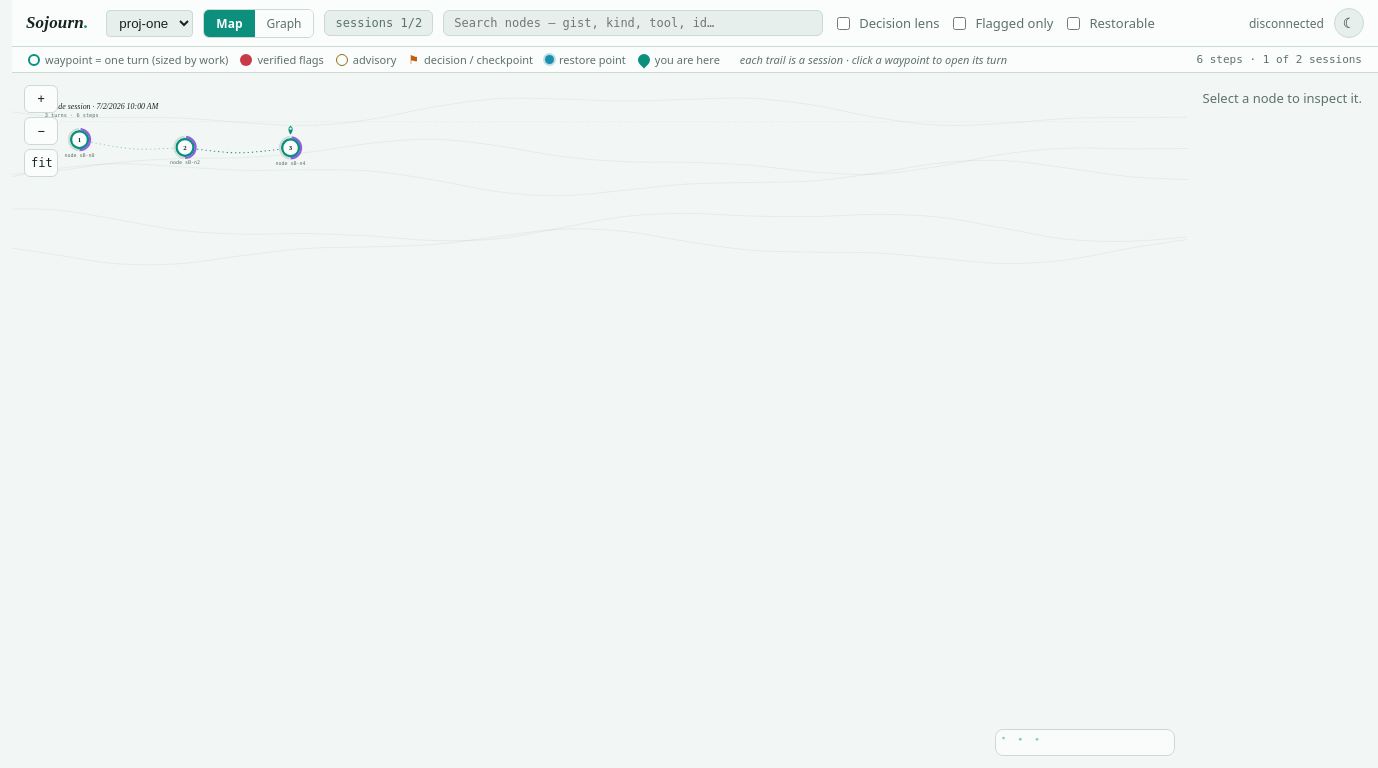
Test case: App / session filter — multi-select and All › unions the selected sessions in the map view
This screenshot has width=1378, height=768.
Check: the element with test id "legend" is shown, box [12, 47, 1377, 73]
Step 1. Click the button with test id "session-filter-button" → (379, 23), box [324, 10, 433, 36]
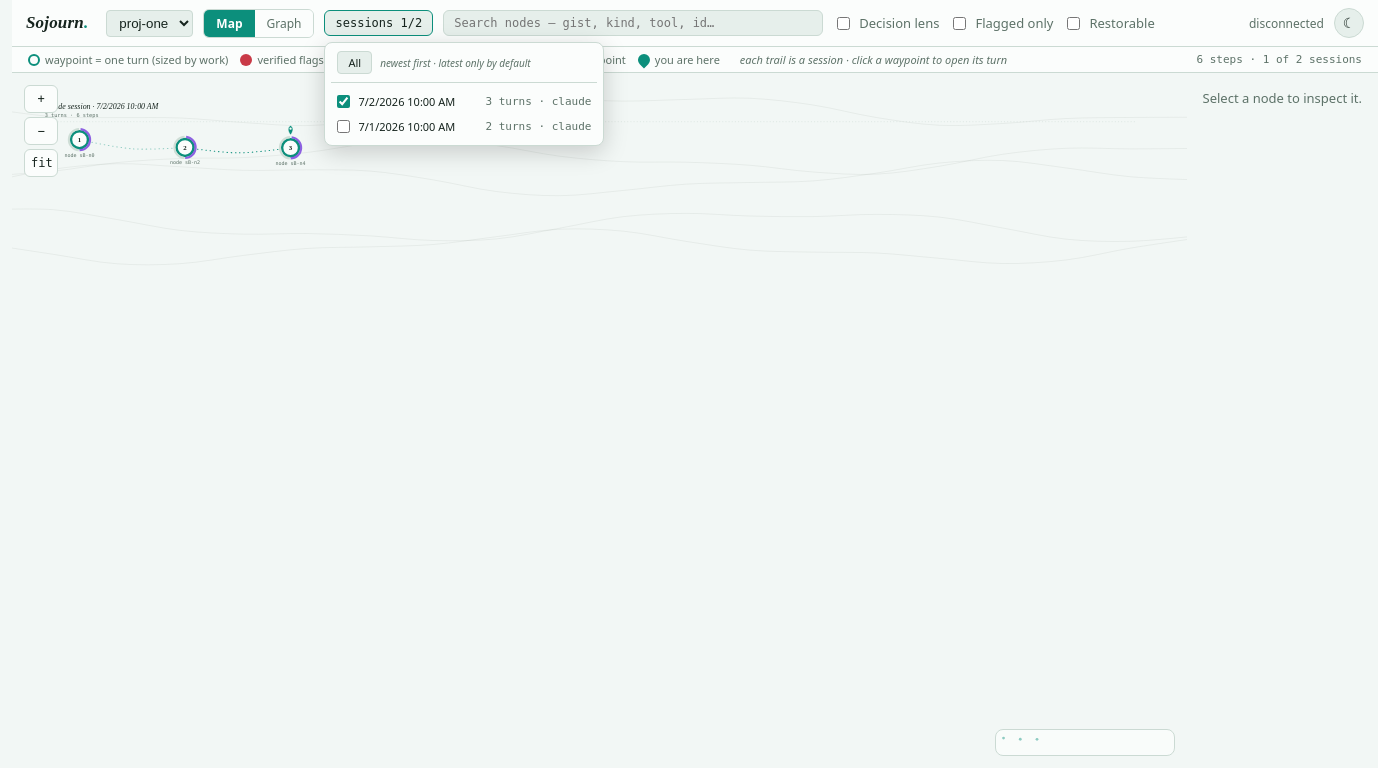
Step 2. Click the checkbox labelled "7/1/2026 10:00 AM 2 turns · claude" → (344, 126), box [338, 120, 350, 133]
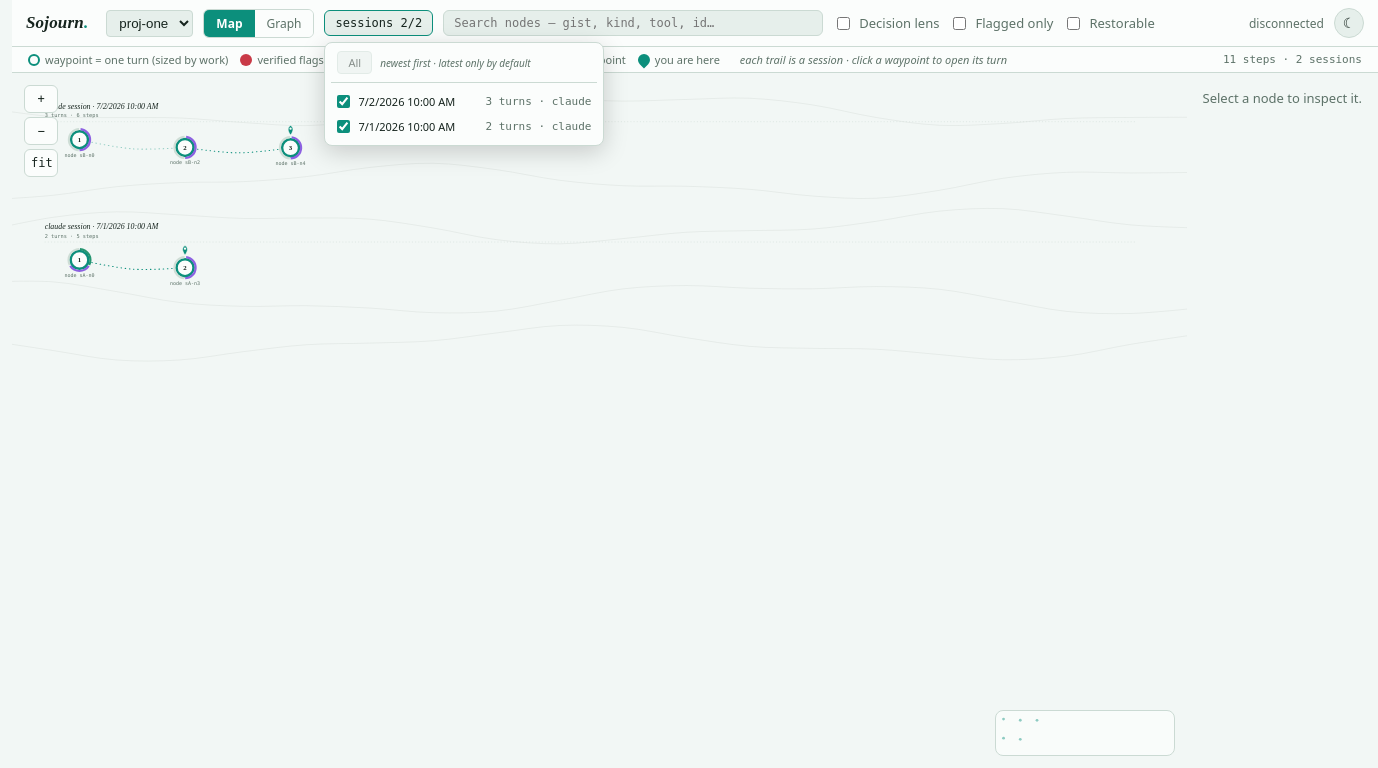
Check: the element with test id "legend" shows "2 sessions", box [1296, 53, 1362, 66]
Check: the element with test id "legend" shows "11 steps", box [12, 47, 1377, 73]
